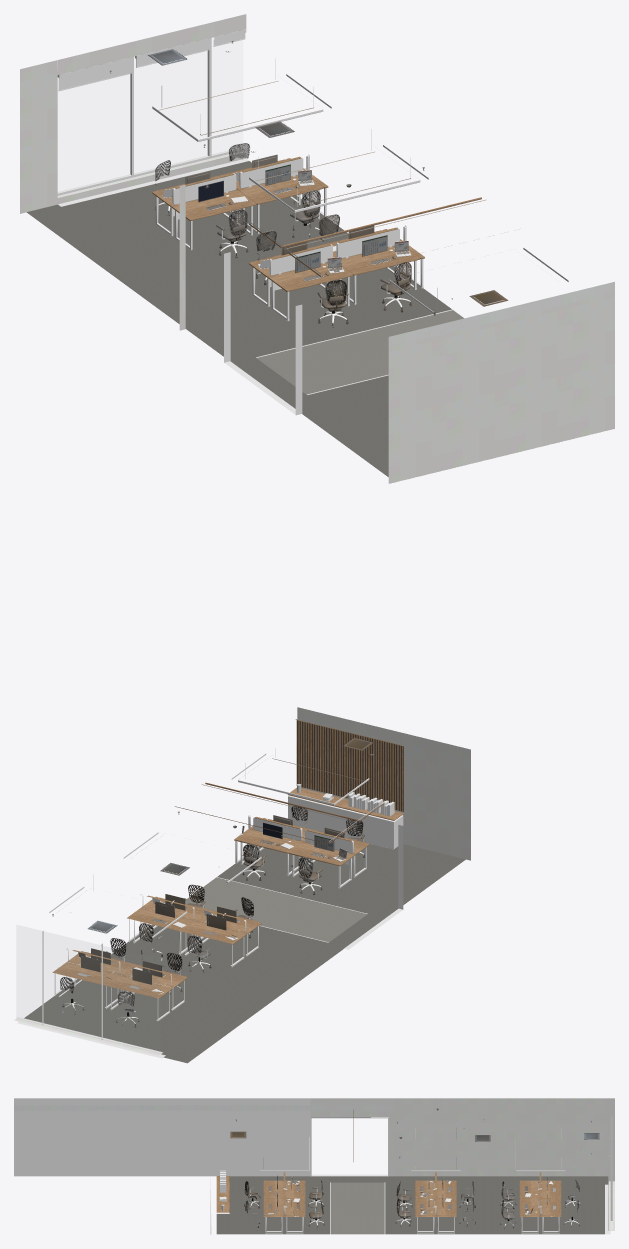
Rendered from z-open_w-lite.full.53cec1c1.glb.
3 views of the same model, one above another, from view 1: azimuth 30°, elevation 25°; view 2: azimuth 150°, elevation 25°; view 3: azimuth 270°, elevation 25° (orthographic). The views are drawn at different scales.
Visible parts, largest first — view 1: open_w_plaster, open_w_carpet, open_w_satin, open_w_fx, open_w_oak, open_w_emit, open_w_metal_lit; view 2: open_w_carpet, open_w_plaster, open_w_satin, open_w_oak, open_w_fx, open_w_proxy_slat, open_w_metal_lit, open_w_emit; view 3: open_w_satin, open_w_plaster, open_w_carpet, open_w_oak, open_w_fx, open_w_metal_lit.
Boxes of the visible parts, box(x1,y1,x2,y2) form: open_w_plaster: box(20, 14, 614, 483); open_w_carpet: box(26, 161, 463, 476); open_w_satin: box(57, 29, 568, 415); open_w_fx: box(109, 41, 508, 327); open_w_oak: box(152, 155, 481, 291); open_w_emit: box(158, 81, 486, 272); open_w_metal_lit: box(60, 51, 411, 414); open_w_carpet: box(24, 844, 465, 1063); open_w_plaster: box(14, 707, 470, 1055); open_w_satin: box(16, 748, 403, 1058); open_w_oak: box(52, 782, 403, 998); open_w_fx: box(52, 738, 403, 1027); open_w_proxy_slat: box(296, 720, 403, 811); open_w_metal_lit: box(58, 826, 403, 1055); open_w_emit: box(152, 719, 402, 937); open_w_satin: box(14, 1098, 612, 1234); open_w_plaster: box(14, 1098, 614, 1234); open_w_carpet: box(216, 1176, 608, 1234); open_w_oak: box(216, 1110, 561, 1216); open_w_fx: box(230, 1108, 599, 1228); open_w_metal_lit: box(249, 1128, 605, 1233).
Size of the model in its own units: 5.4 by 3.36 by 23.
10 materials, 6 textured.
